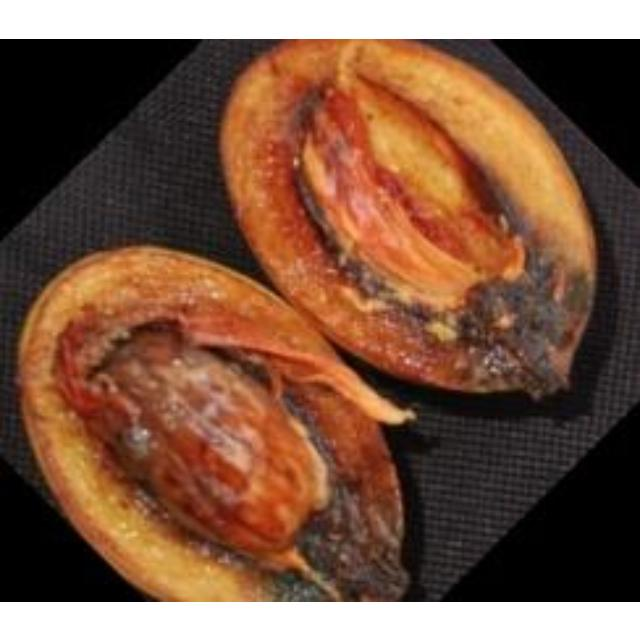damaged: (16, 245, 414, 599), (218, 38, 598, 403)
